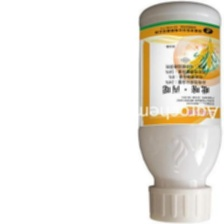insecticide: (137, 0, 224, 224)
